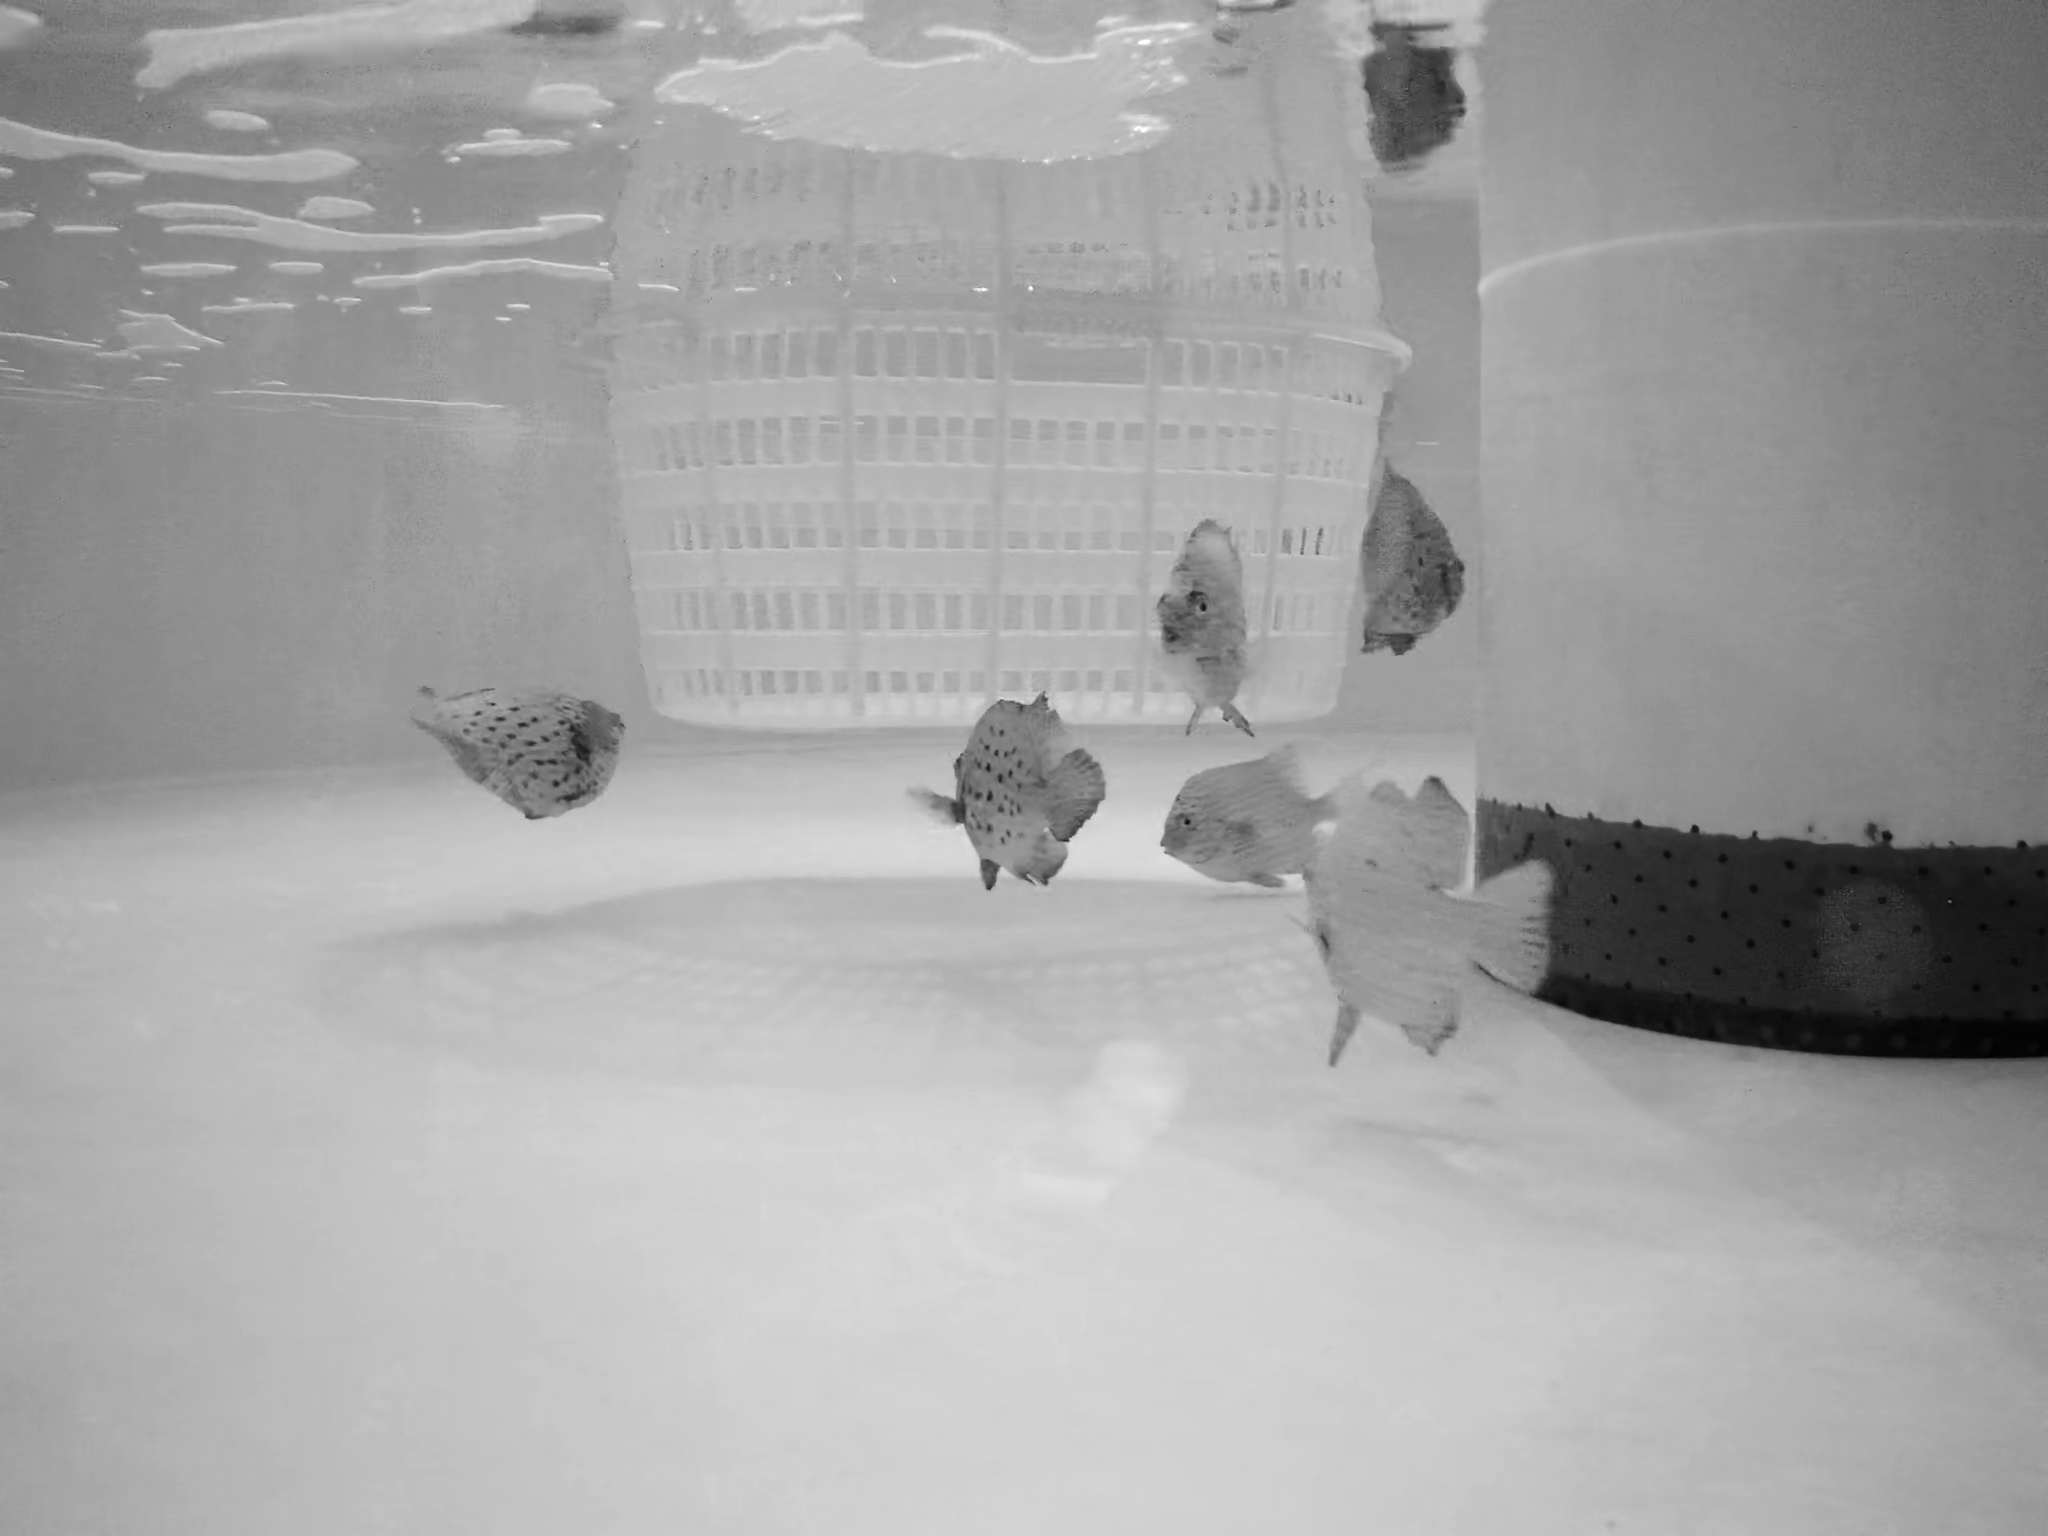fish: (1287, 784, 1567, 1060), (918, 687, 1093, 894), (1156, 516, 1280, 752), (426, 684, 635, 823), (1158, 741, 1330, 894), (1371, 465, 1466, 660)
